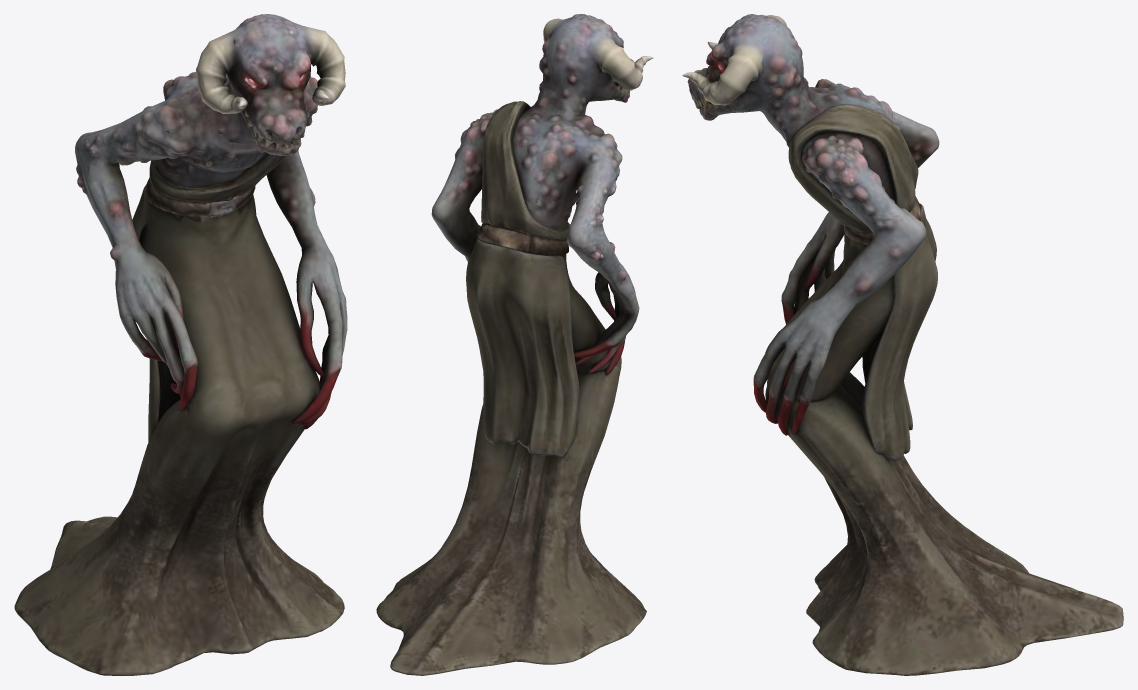
File: MZ4250 - Oinoloth.glb
3 views of the same model, side by side, from view 1: azimuth 30°, elevation 25°; view 2: azimuth 150°, elevation 25°; view 3: azimuth 270°, elevation 25° (orthographic). The views are drawn at different scales.
Visible parts, largest first — view 1: ORGANIC BASE SPHERE.001; view 2: ORGANIC BASE SPHERE.001; view 3: ORGANIC BASE SPHERE.001.
Part boxes in pixels (bbox=[...]): ORGANIC BASE SPHERE.001: bbox=[14, 14, 347, 675]; ORGANIC BASE SPHERE.001: bbox=[376, 14, 653, 675]; ORGANIC BASE SPHERE.001: bbox=[682, 14, 1123, 675].
Size of the model in its own units: 0.4462 by 1.02 by 0.6836.
Materials: 1 (1 with a texture image).
